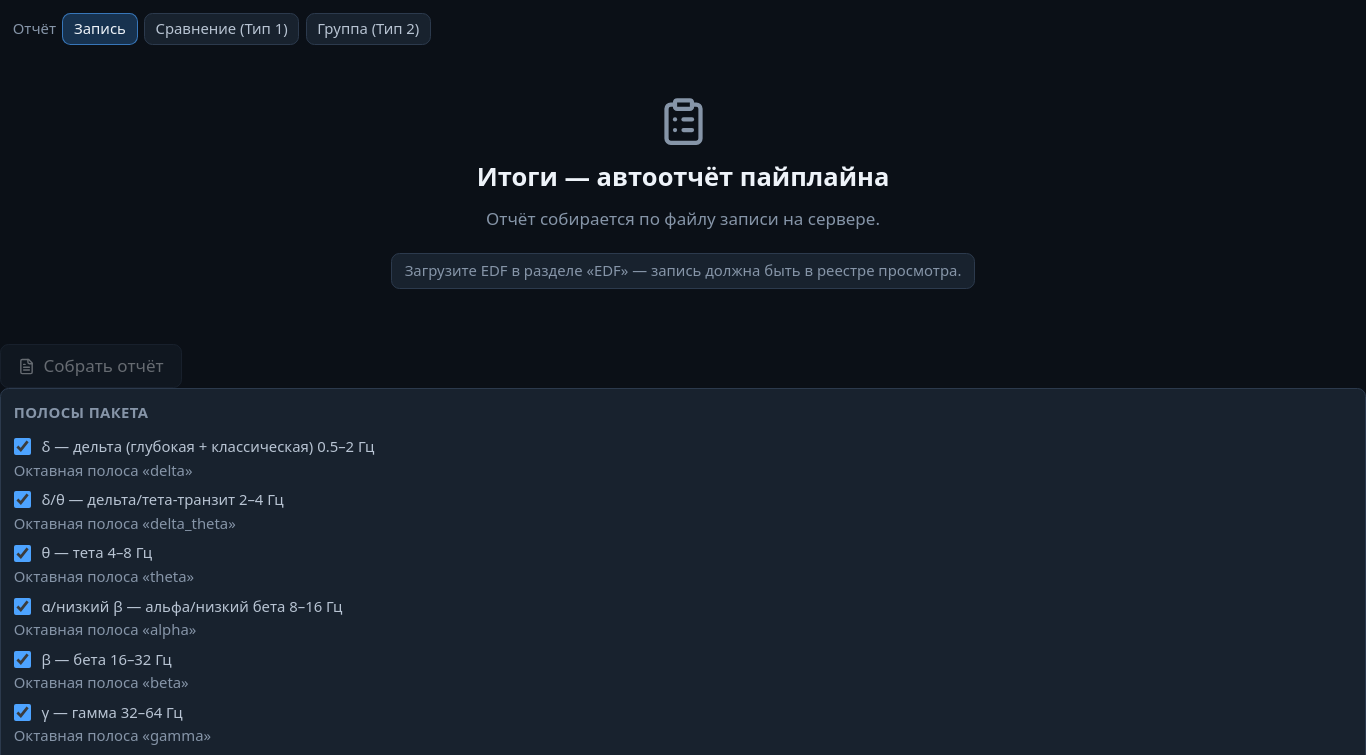
Test case: «Итоги»: отчёты группового анализа (оба типа) › переключатель видов есть; «Сравнение» без источника — кнопка выключена
Expected: the element with test id "summary-kind" is shown, [13, 13, 431, 45]
What coordinates should you click on to do the following:
click the button "Сравнение (Тип 1)"
I would click on:
 (222, 29)
Its box is [144, 13, 299, 45].
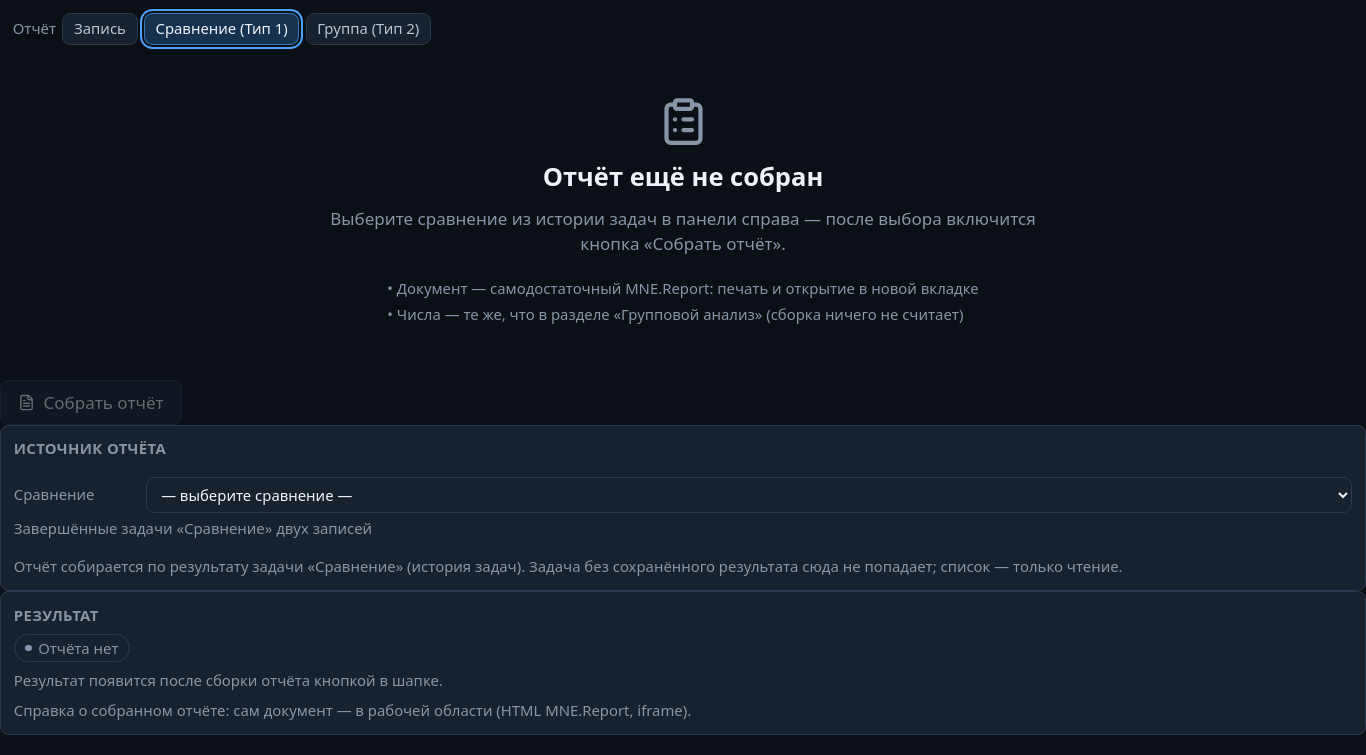
Expected: the heading "Итоги — автоотчёт пайплайна" is gone
Expected: the heading "Отчёт ещё не собран" is shown, [543, 159, 823, 193]
Expected: the text "Выберите сравнение из истории задач" is shown, [330, 207, 1036, 256]
